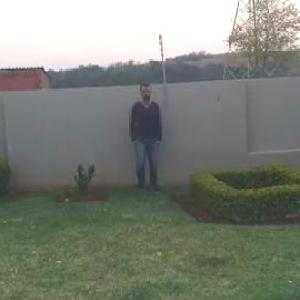follow: (128, 77, 163, 196)
